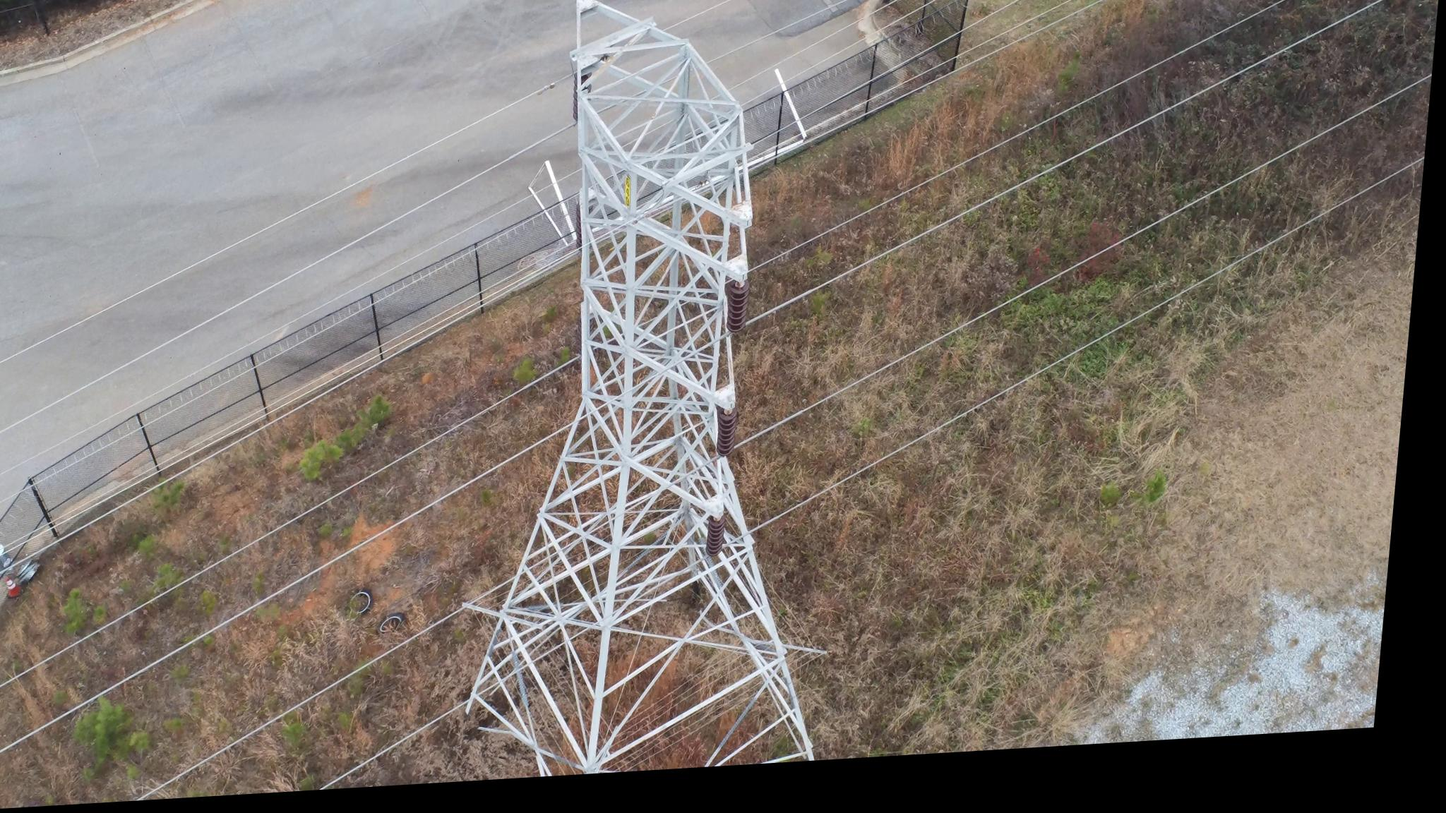tower: (459, 0, 889, 782)
